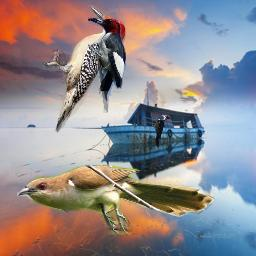Cuckoo: (17, 165, 215, 235)
Woodpecker: (42, 5, 128, 133), (88, 17, 126, 113), (148, 114, 171, 148)
